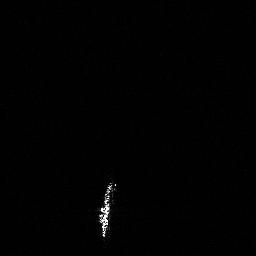ship: (92, 177, 121, 240)
